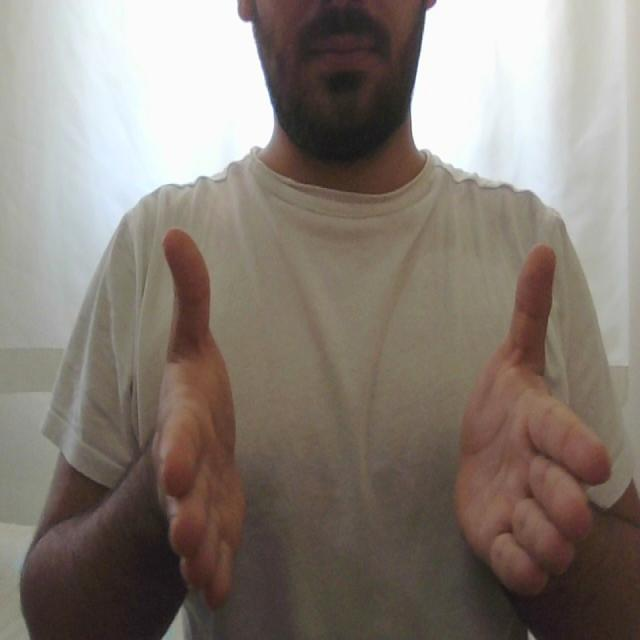Nasil: (146, 217, 615, 617)
